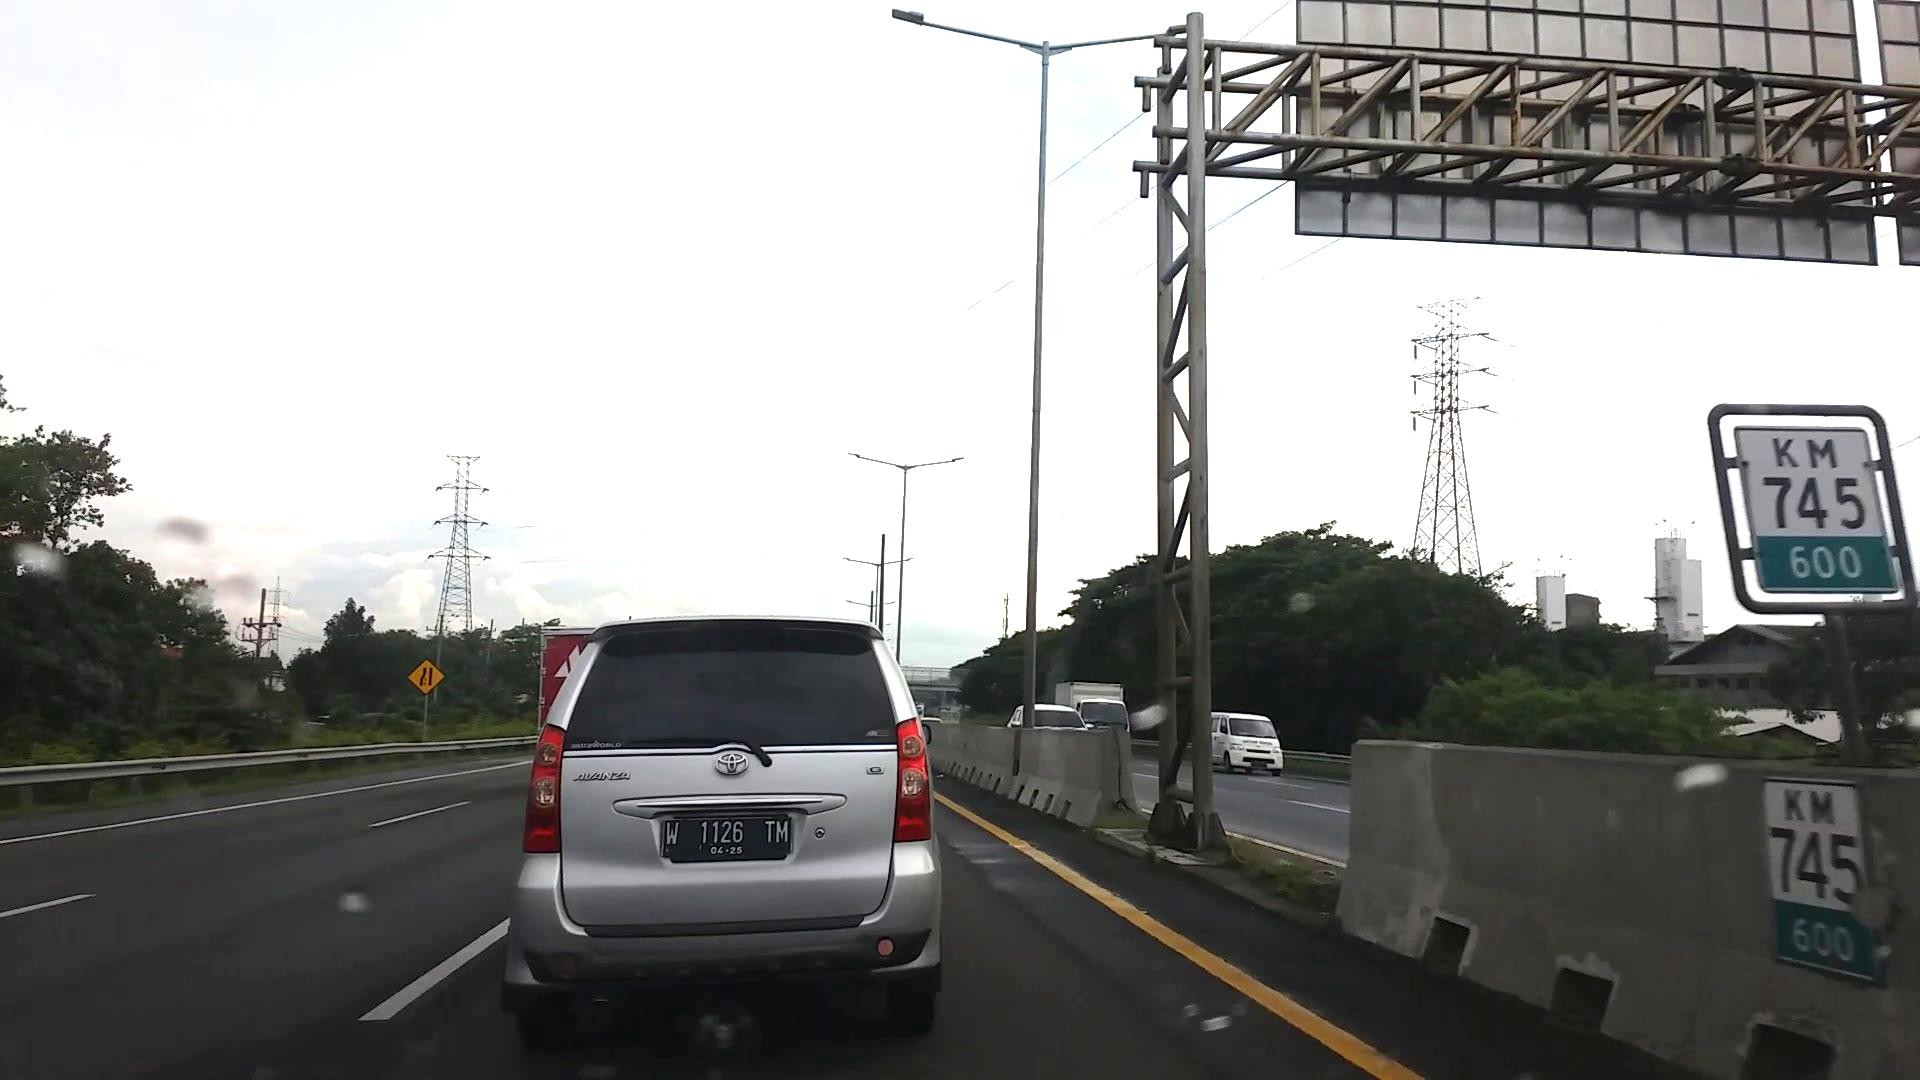plate_positive: (659, 818, 791, 861)
